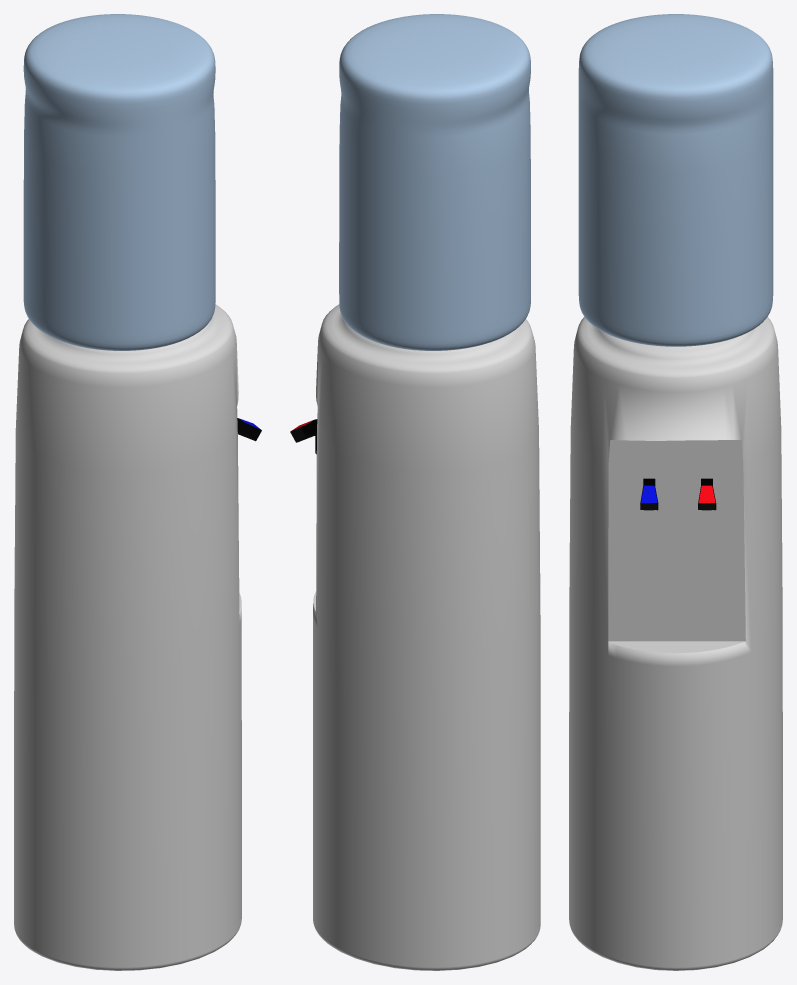
The model's file is BilloWasserspender.fbx.
3 views of the same model, side by side, from view 1: azimuth 30°, elevation 25°; view 2: azimuth 150°, elevation 25°; view 3: azimuth 270°, elevation 25° (orthographic).
Visible parts, largest first — view 1: Wasserspender; view 2: Wasserspender; view 3: Wasserspender.
Part boxes in pixels (x1,y1,x2,y2): Wasserspender: (14,14,261,970); Wasserspender: (290,14,540,970); Wasserspender: (569,14,782,970).
Size of the model in its own units: 36 by 140 by 31.
